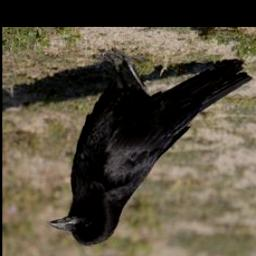Crow: (47, 49, 254, 248)
